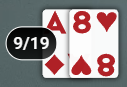8: (69, 9, 93, 37)
a: (42, 10, 68, 38)
